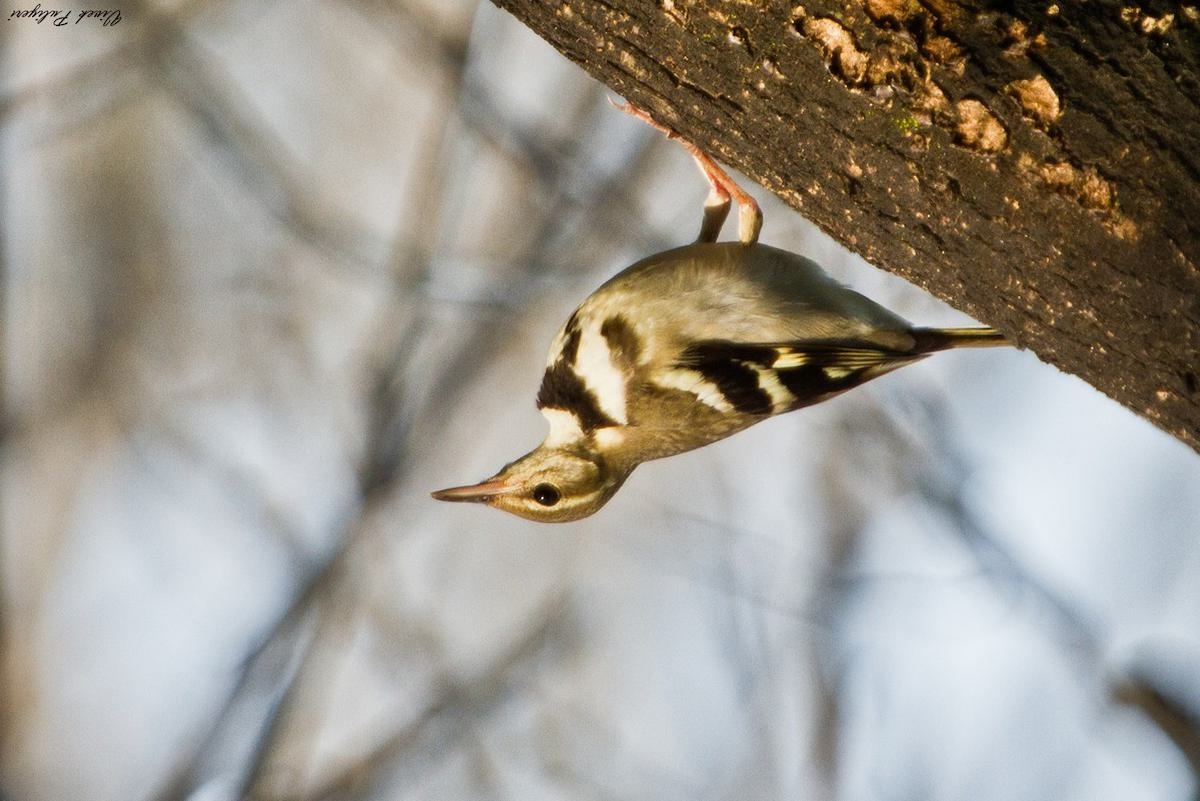wagtail: (439, 227, 933, 533)
